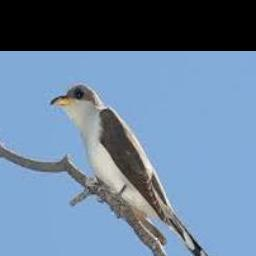Cuckoo: (51, 83, 224, 256)
